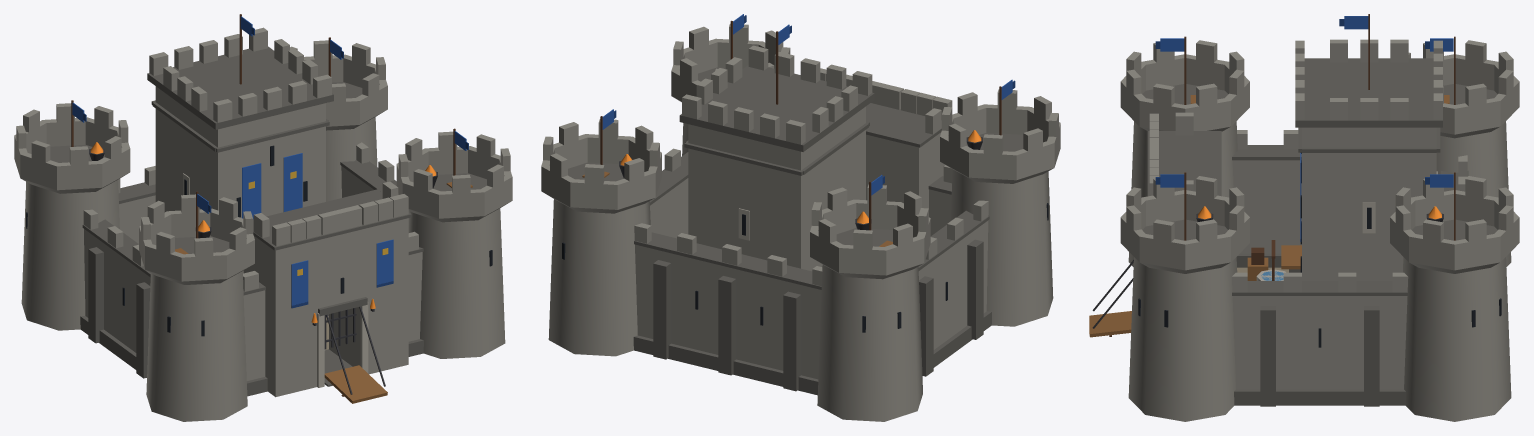
The model's file is castle.glb.
The picture shows the model from 3 angles, left to right: view 1: azimuth 30°, elevation 25°; view 2: azimuth 150°, elevation 25°; view 3: azimuth 270°, elevation 25°; orthographic projection. The views are drawn at different scales.
Parts seen in each view (by area): view 1: castle; view 2: castle; view 3: castle.
Boxes of the visible parts, x1,y1,x2,y2 form: castle: [14, 14, 512, 421]; castle: [541, 14, 1060, 421]; castle: [1089, 14, 1519, 421].
Bounding box in the file's own units: 17.4 × 13.45 × 16.6.
Materials: 1 (1 with a texture image).
